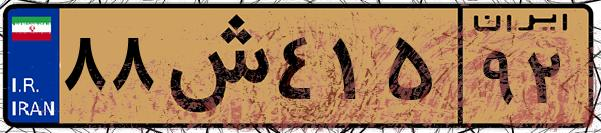1: (330, 28, 385, 110)
2: (525, 38, 570, 115)
4: (270, 28, 330, 110)
5: (385, 28, 445, 110)
8: (57, 26, 110, 100), (110, 28, 158, 98)
9: (475, 38, 525, 113)
ش: (158, 12, 270, 120)
